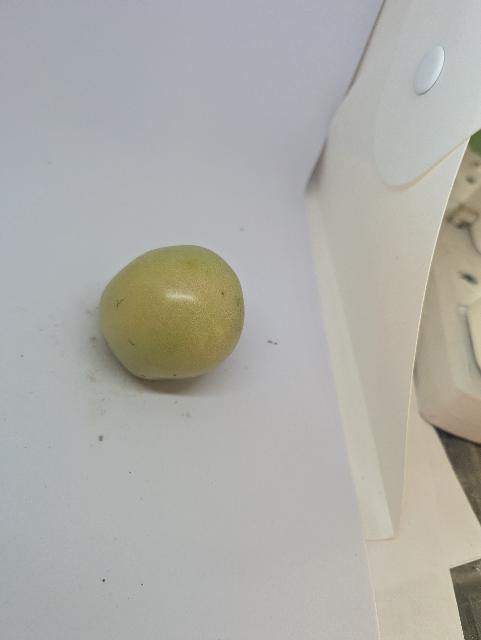breaker: (95, 242, 246, 384)
